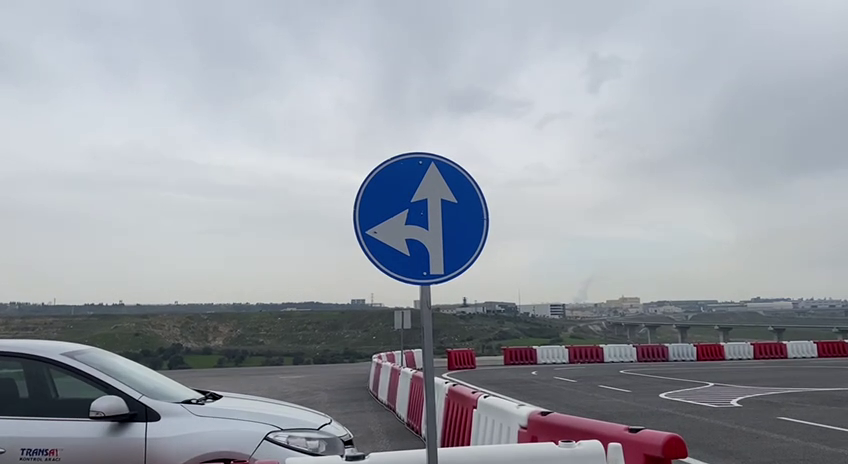forwardAndLeft: (350, 149, 494, 289)
